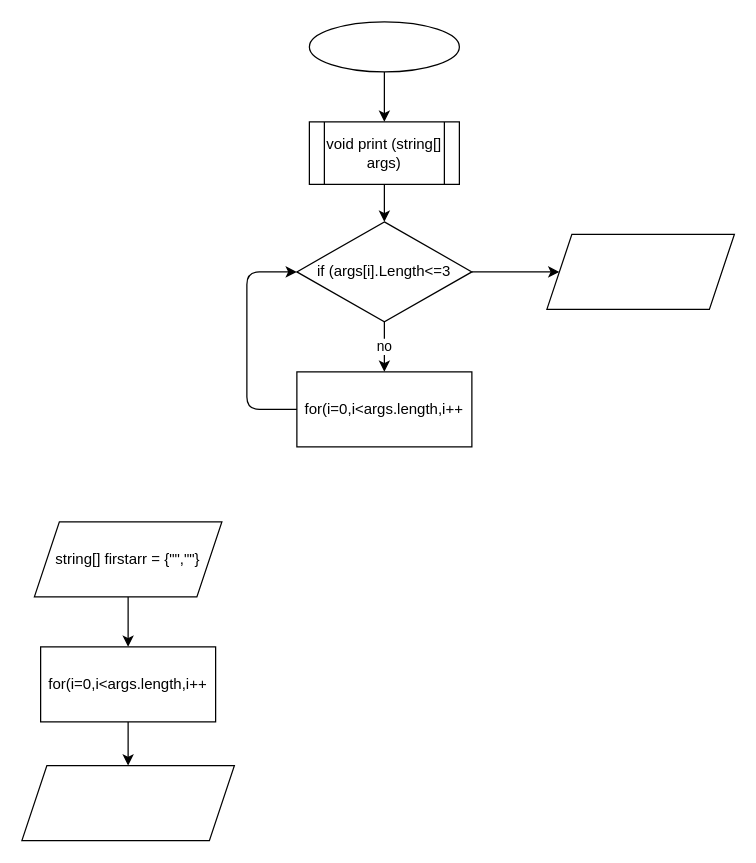
The diagram is 756 pixels wide and 863 high, and some of its shapes have lost their labels. Each missing label, with the centre of its shape:
"console.writeline(firstarr[i])" goes at (x=127, y=802).
"start" goes at (x=383, y=46).
"string[] secondarr = {}" goes at (x=640, y=271).
